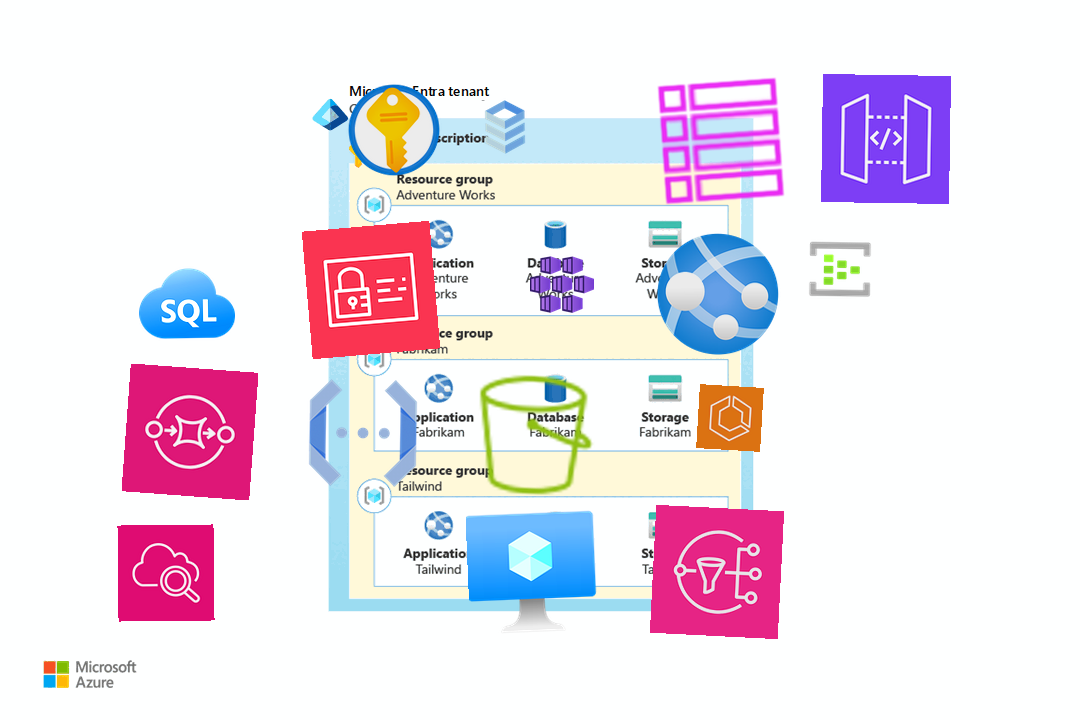aws_amazon_api_gateway: (820, 73, 952, 205)
aws_amazon_cloudwatch: (117, 524, 215, 622)
aws_amazon_elastic_container_service: (696, 384, 764, 452)
aws_amazon_simple_notification_service: (649, 504, 785, 640)
aws_amazon_simple_queue_service: (121, 363, 259, 501)
aws_dynamodb_table: (652, 72, 790, 210)
aws_identity_and_access_management: (301, 220, 441, 360)
aws_simple_storage_service_bucket: (468, 368, 602, 502)
azure_app_services: (653, 229, 783, 359)
azure_event_hubs: (807, 236, 873, 302)
azure_key_vaults: (343, 79, 445, 181)
azure_kubernetes_services: (529, 251, 595, 317)
azure_sql: (138, 256, 236, 354)
azure_virtual_machine: (465, 509, 599, 643)
gcp_cloud_functions: (298, 368, 428, 498)
gcp_cloud_sql: (472, 94, 538, 160)
